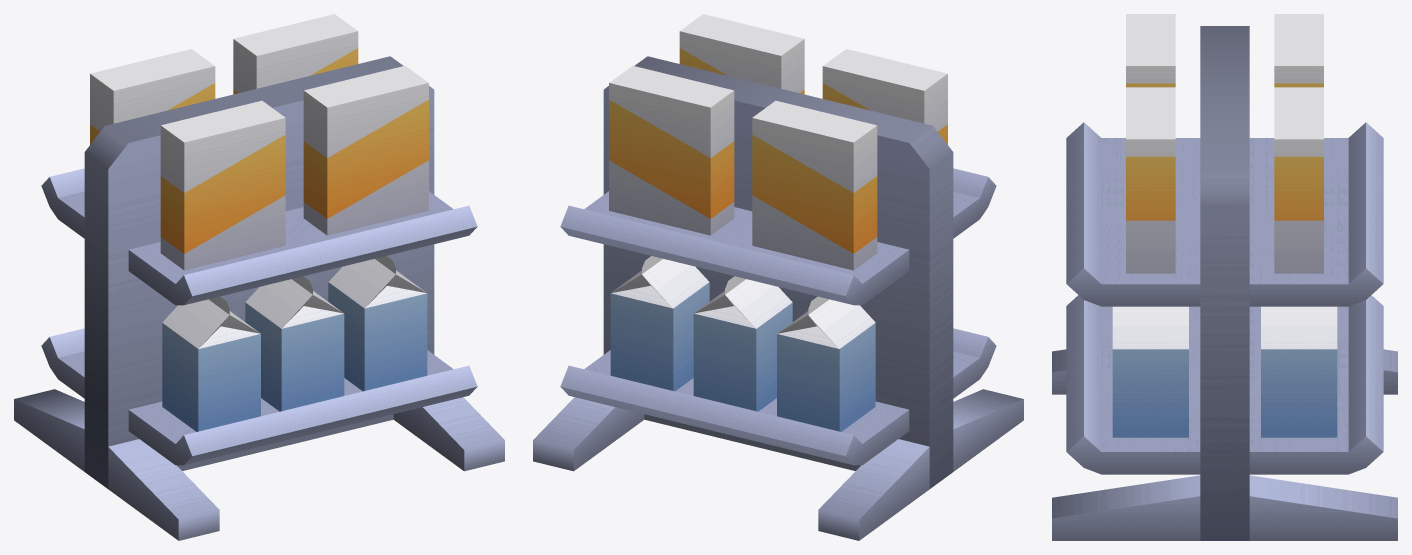
File: shelf-boxes.glb
3 renders of one model, left to right at view 1: azimuth 30°, elevation 25°; view 2: azimuth 150°, elevation 25°; view 3: azimuth 270°, elevation 25°, orthographic. The views are drawn at different scales.
Parts seen in each view (by area): view 1: shelf-boxes, box, box_1, carton_2, carton, carton_1, box_2, box_3; view 2: shelf-boxes, box_2, box_3, carton_5, carton_3, carton_4, box, box_1; view 3: shelf-boxes, carton, carton_3, box_1, box_3, box, box_2.
Boxes of the visible parts, x1,y1,x2,y2 form: shelf-boxes: (14,56,504,540); box: (160,100,285,270); box_1: (303,65,428,235); carton_2: (162,296,260,431); carton: (328,256,427,391); carton_1: (245,276,344,411); box_2: (90,49,215,144); box_3: (233,14,358,94); shelf-boxes: (533,56,1023,540); box_2: (752,100,877,270); box_3: (609,65,734,235); carton_5: (777,296,875,431); carton_3: (610,256,709,391); carton_4: (693,276,792,411); box: (822,49,947,144); box_1: (679,14,804,94); shelf-boxes: (1052,26,1397,540); carton: (1112,306,1188,437); carton_3: (1261,306,1337,437); box_1: (1126,87,1175,273); box_3: (1274,87,1323,273); box: (1126,14,1175,87); box_2: (1274,14,1323,87).
Bounding box in the file's own units: 0.8 × 0.85 × 0.7.
Materials: 1 (1 with a texture image).
